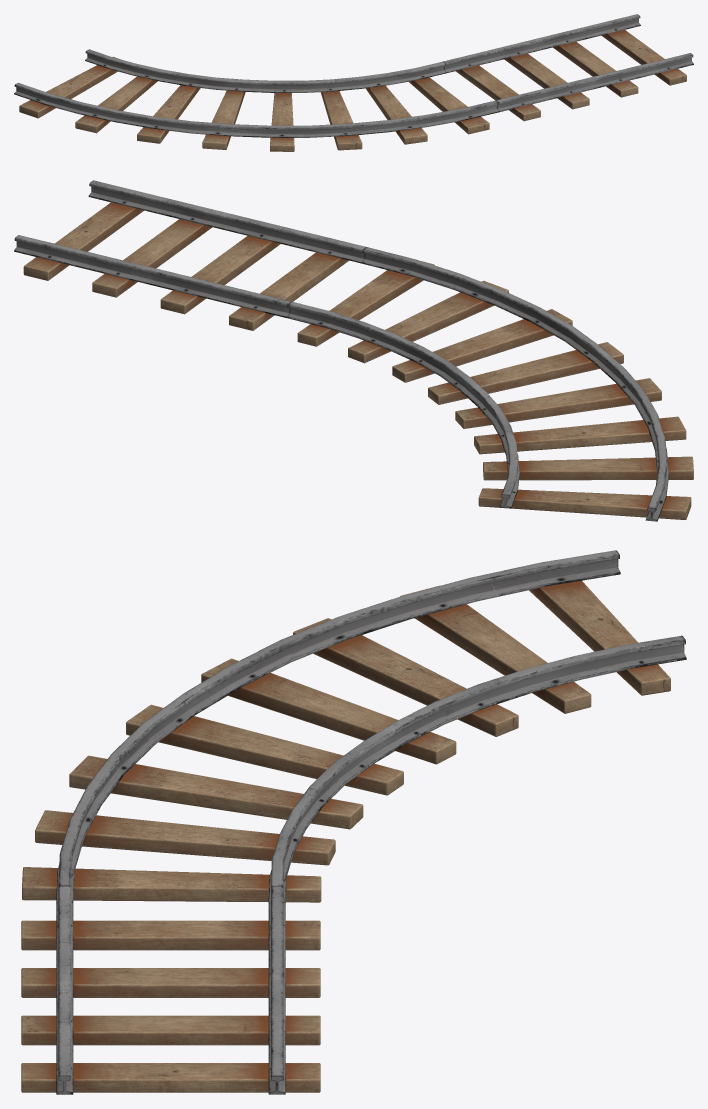
Rendered from TrainTracks.fbx.
The picture shows the model from 3 angles, top to bottom: view 1: azimuth 30°, elevation 25°; view 2: azimuth 150°, elevation 25°; view 3: azimuth 270°, elevation 25°; orthographic projection. The views are drawn at different scales.
Visible parts, largest first — view 1: Railcurve, Rail1; view 2: Railcurve, Rail1; view 3: Railcurve, Rail1.
Part boxes in pixels (box(x1,y1,x2,y2)): Railcurve: box(14, 49, 499, 151); Rail1: box(443, 14, 693, 121); Railcurve: box(287, 247, 693, 521); Rail1: box(14, 180, 365, 330); Railcurve: box(22, 550, 686, 903); Rail1: box(21, 886, 320, 1094).
Size of the model in its own units: 845 by 23.9 by 445.
